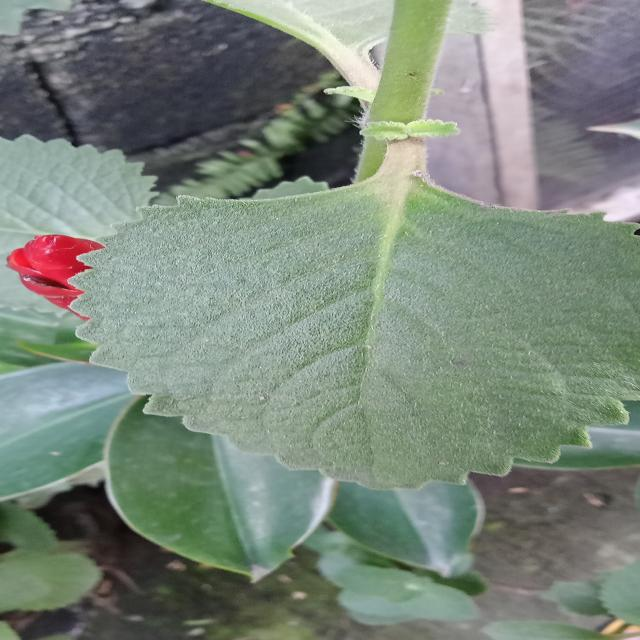Oregano: (69, 173, 640, 502)
